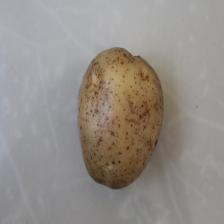Diseased-fungal potato: (76, 44, 166, 190)
